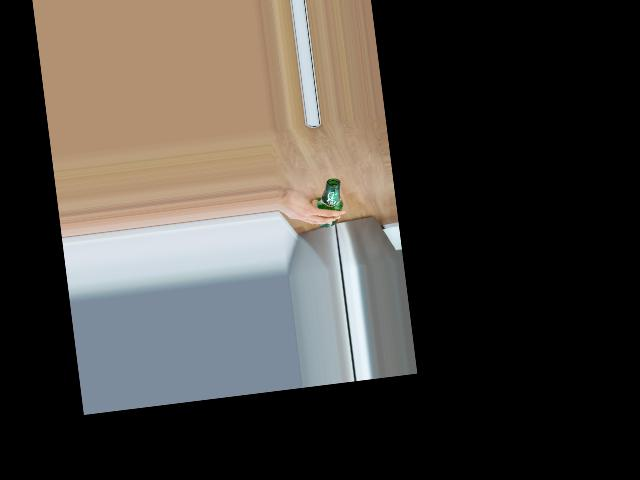beer: (313, 177, 345, 227)
